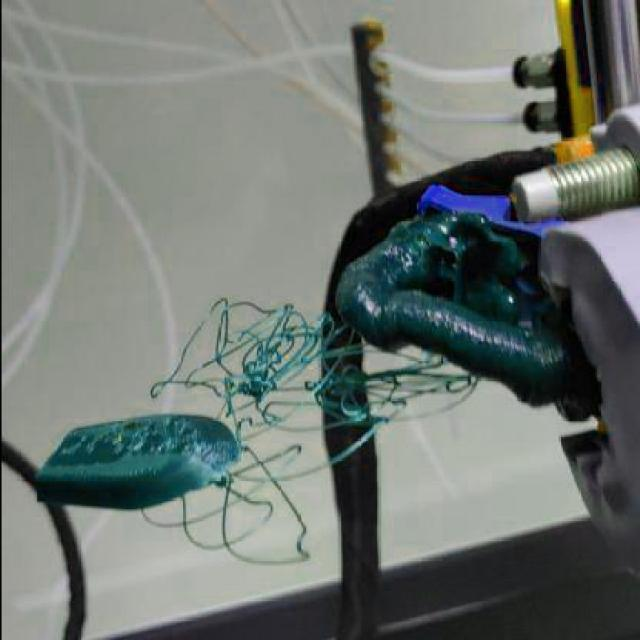spaghetti: (140, 287, 488, 481), (144, 482, 321, 570)
